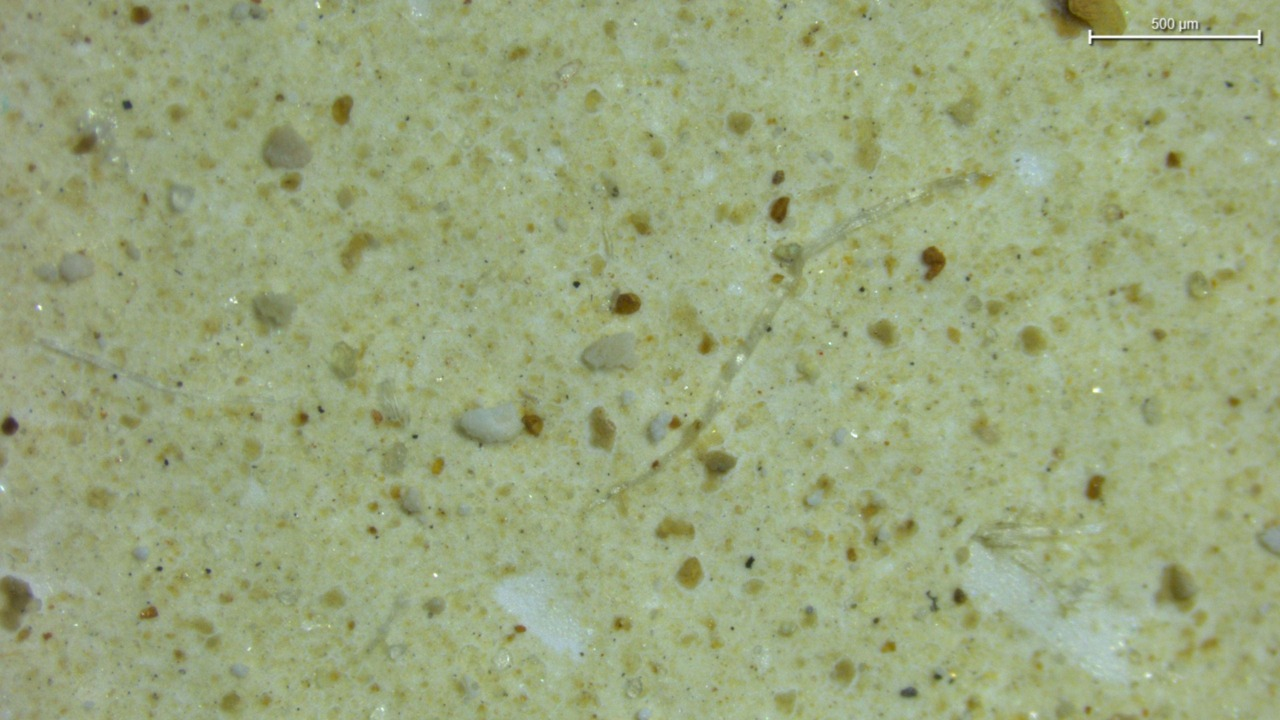microplastic_fragment: (458, 404, 521, 443), (262, 125, 311, 169), (581, 332, 636, 370), (252, 294, 296, 328), (375, 380, 408, 425), (59, 253, 94, 282), (649, 411, 679, 442)
